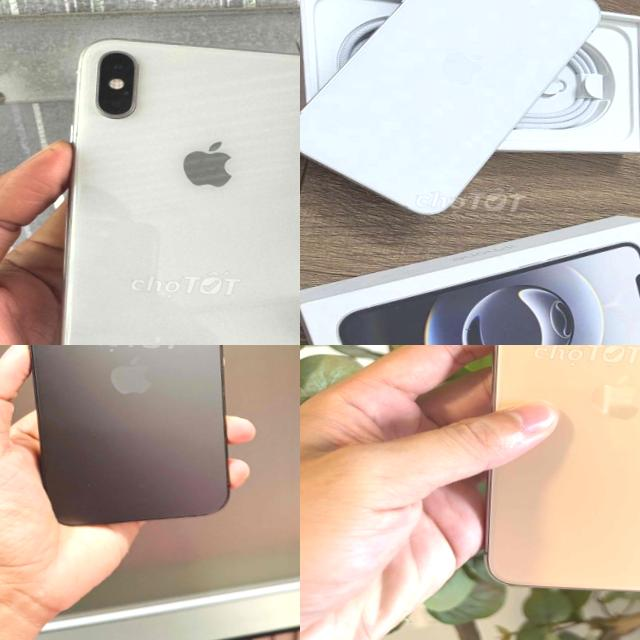gen_11: (469, 345, 640, 603)
gen_12_13: (1, 345, 248, 535)
gen_16: (300, 0, 599, 214)
gen_x_xs: (34, 32, 300, 345)
